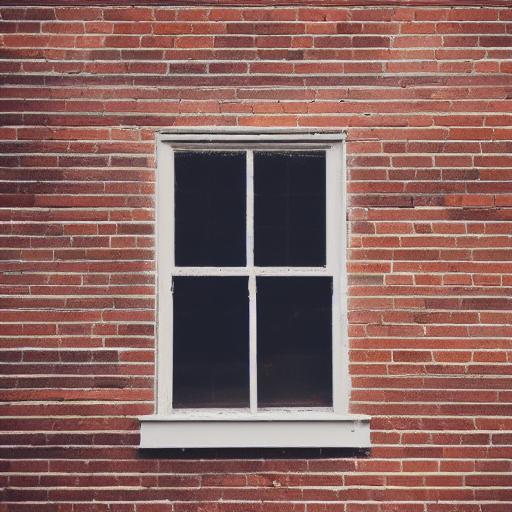Window: (138, 129, 378, 452)
